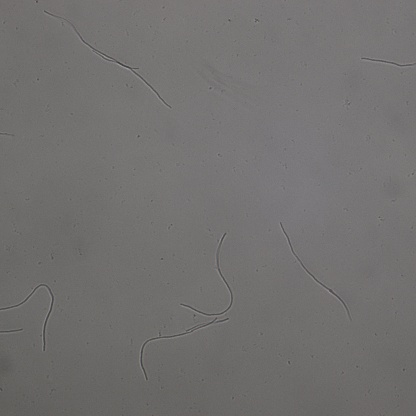Sensitive: (281, 222, 352, 320), (139, 318, 229, 381), (45, 10, 139, 70), (180, 233, 233, 317), (94, 52, 170, 107), (1, 284, 55, 352), (361, 56, 416, 68)
